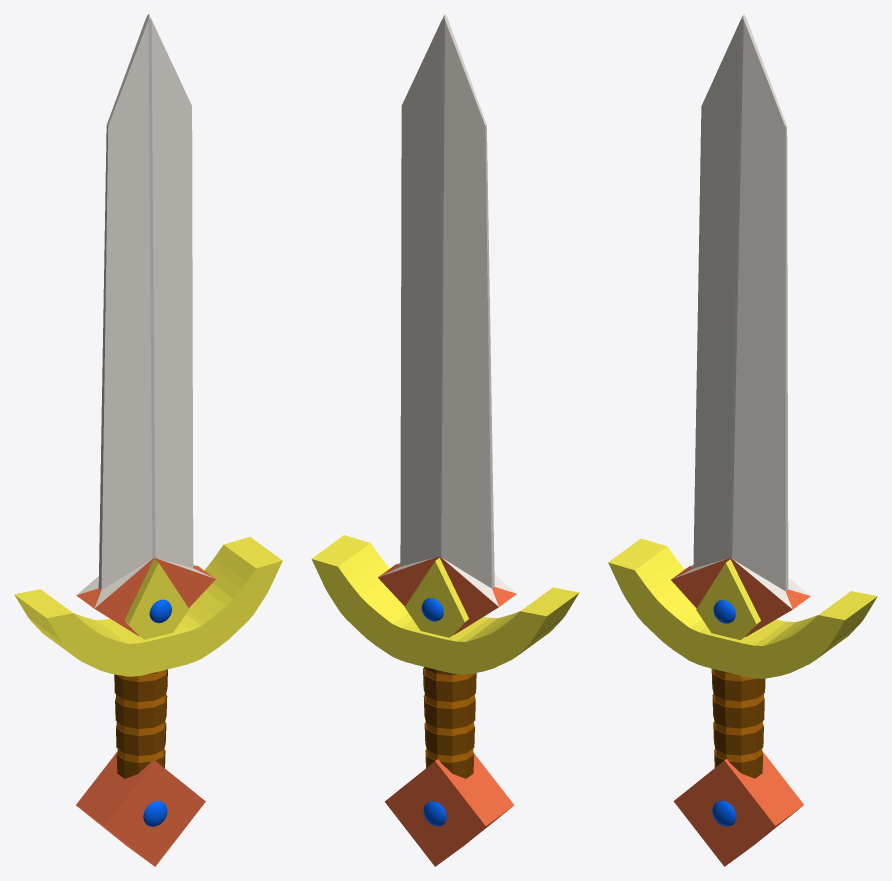
File: basic sword.fbx
3 renders of one model, left to right at view 1: azimuth 30°, elevation 25°; view 2: azimuth 150°, elevation 25°; view 3: azimuth 330°, elevation 25°, orthographic.
Parts seen in each view (by area): view 1: Cube.003; view 2: Cube.003; view 3: Cube.003.
Part boxes in pixels (x1,y1,x2,y2): Cube.003: (14,14,282,866); Cube.003: (311,14,579,866); Cube.003: (608,14,877,866).
Bounding box in the file's own units: 86.58 × 295 × 23.86.
Materials: 1 (1 with a texture image).
